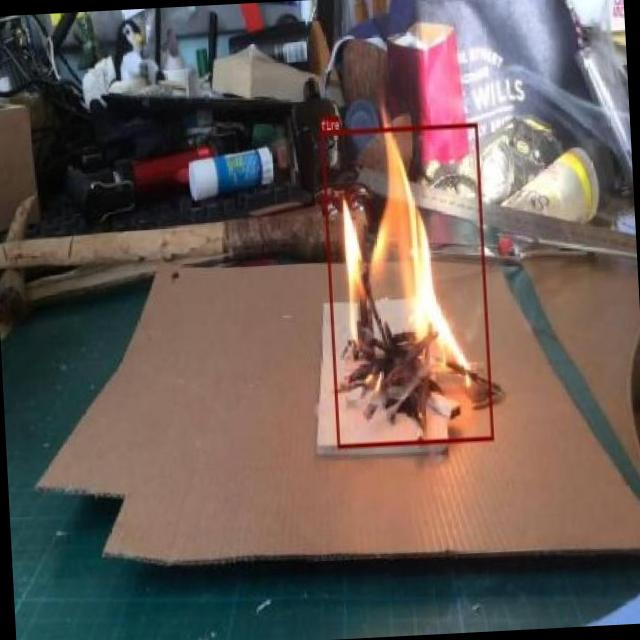fire: (321, 122, 494, 450)
